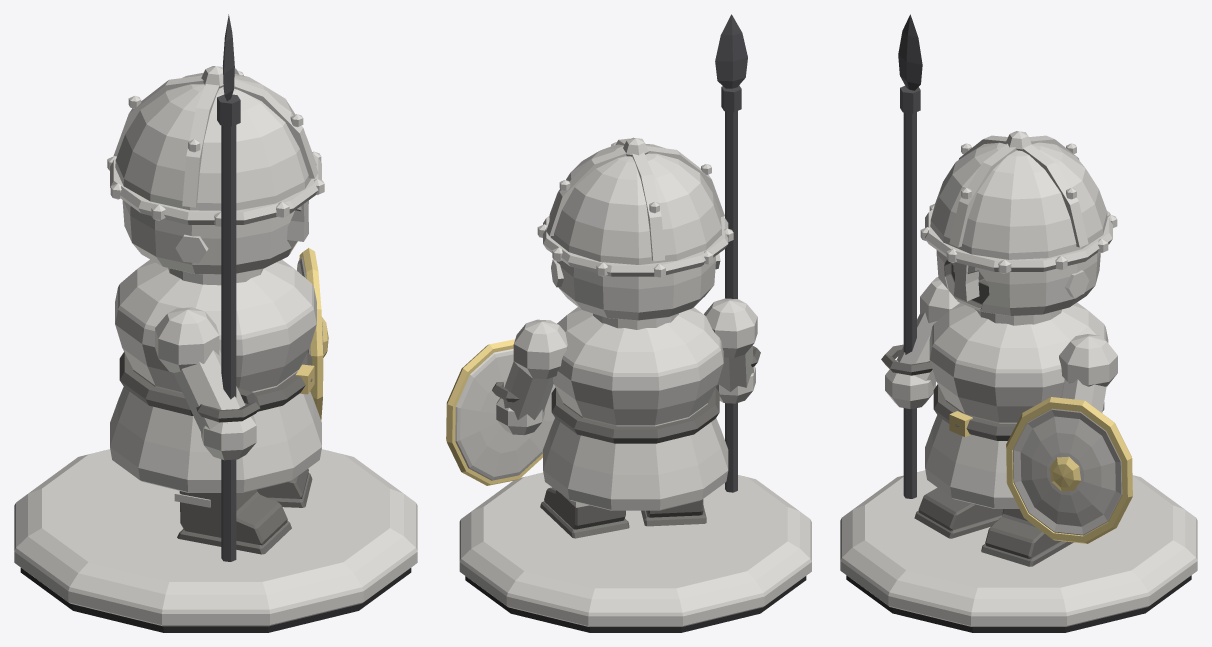
File: pawn_white.glb
3 views of the same model, side by side, from view 1: azimuth 30°, elevation 25°; view 2: azimuth 150°, elevation 25°; view 3: azimuth 270°, elevation 25° (orthographic). The views are drawn at different scales.
Visible parts, largest first — view 1: Pawn_White; view 2: Pawn_White; view 3: Pawn_White.
Part boxes in pixels (x1,y1,x2,y2): Pawn_White: (14, 14, 417, 632); Pawn_White: (446, 14, 811, 632); Pawn_White: (840, 14, 1197, 632).
Size of the model in its own units: 1.2 by 1.94 by 1.2.
